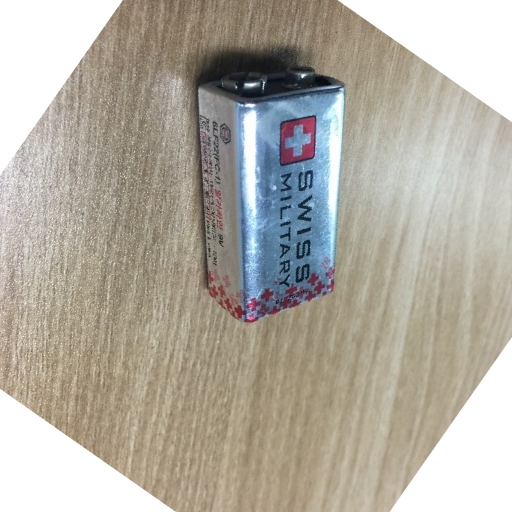Battery_3: (191, 58, 351, 326)
